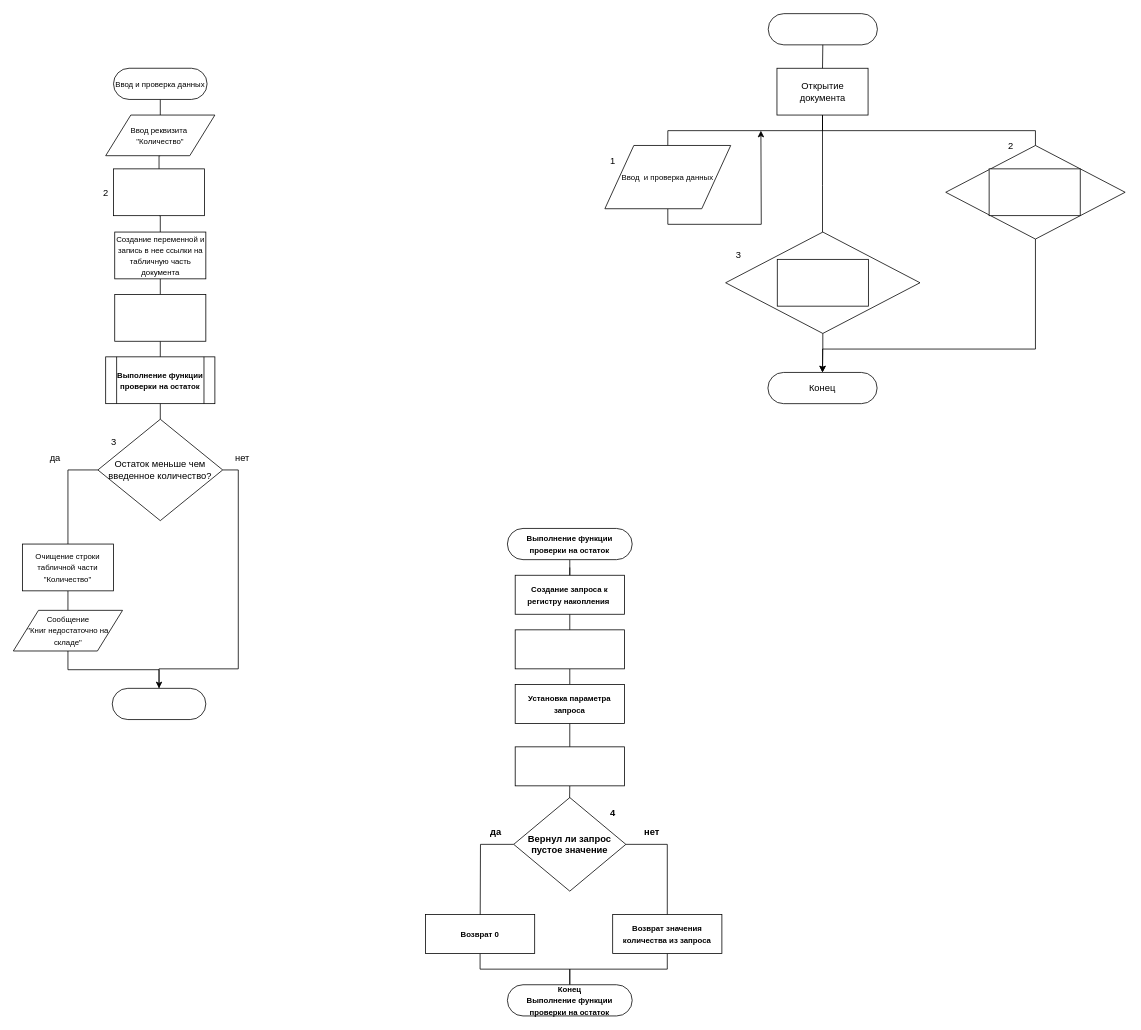
The diagram is 1141 pixels wide and 1030 high, and some of its shapes have lost their labels. Here are the shapes that lost their labels. From the top down, the centre of each, then its label:
At [822,29]: "Начало".
At [159,192]: "Инициализация процедуры проверки на остаток".
At [1034,192]: "Закрыть".
At [822,282]: "Записать и закрыть".
At [160,317]: "Инициализация функции проверки на остаток".
At [569,649]: "Описание текста запроса".
At [158,704]: "Конец Ввод и проверка данных".
At [569,766]: "Выполнение запроса".
